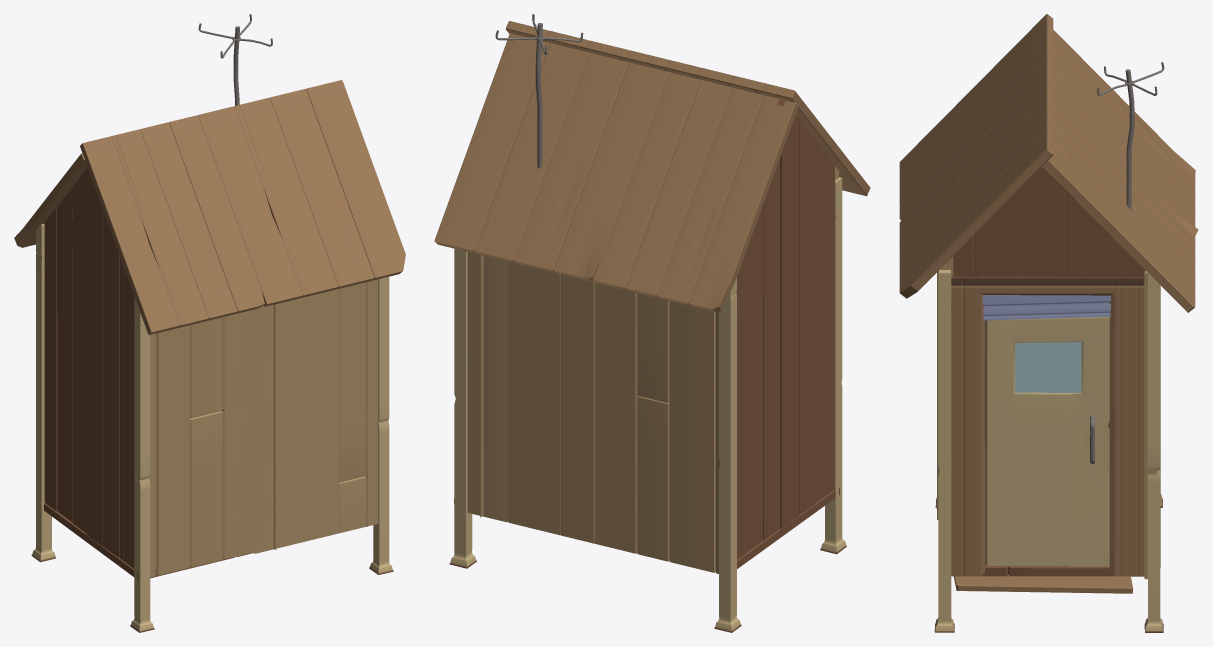
Rendered from atoll_bedshedFinal2.fbx.
3 renders of one model, left to right at view 1: azimuth 30°, elevation 25°; view 2: azimuth 150°, elevation 25°; view 3: azimuth 270°, elevation 25°, orthographic. The views are drawn at different scales.
Parts seen in each view (by area): view 1: Roof, Wall_1, Back, Leg4, Leg3, Leg2, Floor; view 2: Roof, Wall_2, Back, Leg2, Leg, Leg4, Floor; view 3: Roof, Door, DoorFrame, Front, Leg3, Leg, Door1, Step1, Step, Wall_2, Floor, Back (+1 smaller).
Part boxes in pixels (box(x1,y1,x2,y2)): Roof: box(14, 14, 405, 334); Wall_1: box(149, 279, 378, 577); Back: box(44, 167, 134, 568); Leg4: box(130, 296, 154, 632); Leg3: box(369, 276, 393, 574); Leg2: box(31, 223, 55, 562); Floor: box(44, 503, 253, 579); Roof: box(434, 14, 870, 312); Wall_2: box(467, 252, 720, 573); Back: box(736, 99, 834, 559); Leg2: box(714, 277, 741, 632); Leg: box(449, 248, 476, 568); Leg4: box(820, 177, 846, 554); Floor: box(737, 487, 839, 568); Roof: box(899, 14, 1198, 312); Door: box(985, 317, 1109, 566); DoorFrame: box(950, 273, 1144, 576); Front: box(953, 166, 1145, 276); Leg3: box(934, 269, 954, 632); Leg: box(1144, 273, 1163, 632); Door1: box(1015, 342, 1081, 392); Step1: box(983, 295, 1110, 320); Step: box(953, 574, 1132, 593); Wall_2: box(1144, 271, 1160, 579); Floor: box(963, 444, 1143, 576); Back: box(982, 176, 1118, 443).
Bounding box in the file's own units: 8.59 × 14.98 × 7.69.
